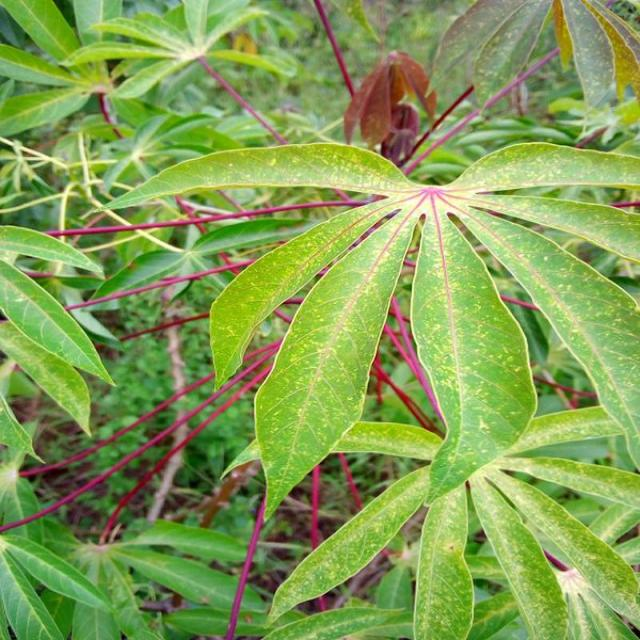cassava leaf: (92, 134, 638, 637), (408, 195, 538, 505)
